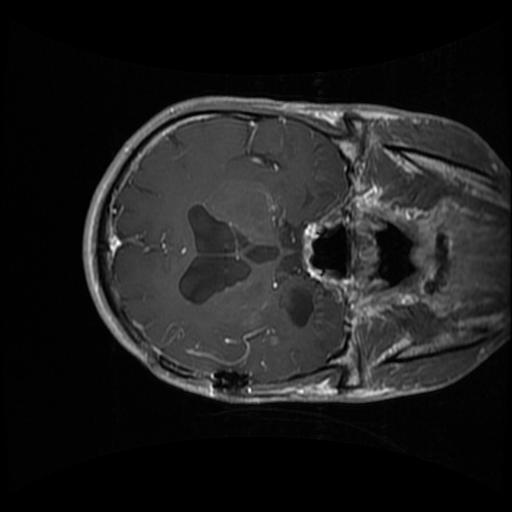glioma: (280, 288, 313, 326)
